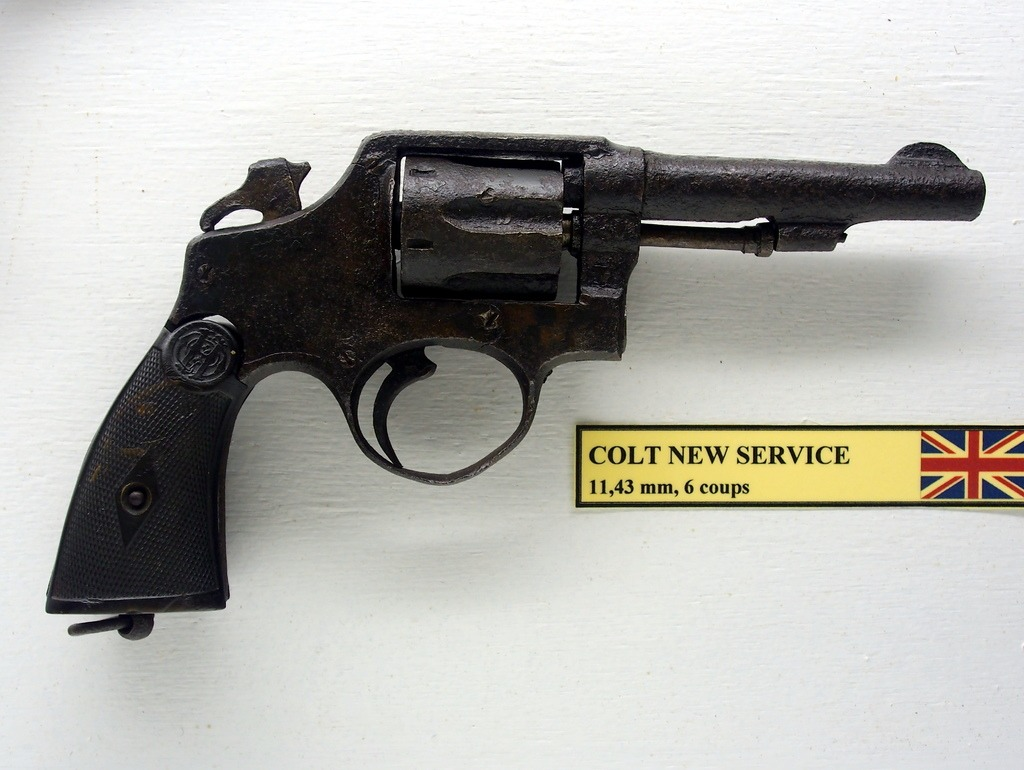gun: (81, 71, 978, 643)
